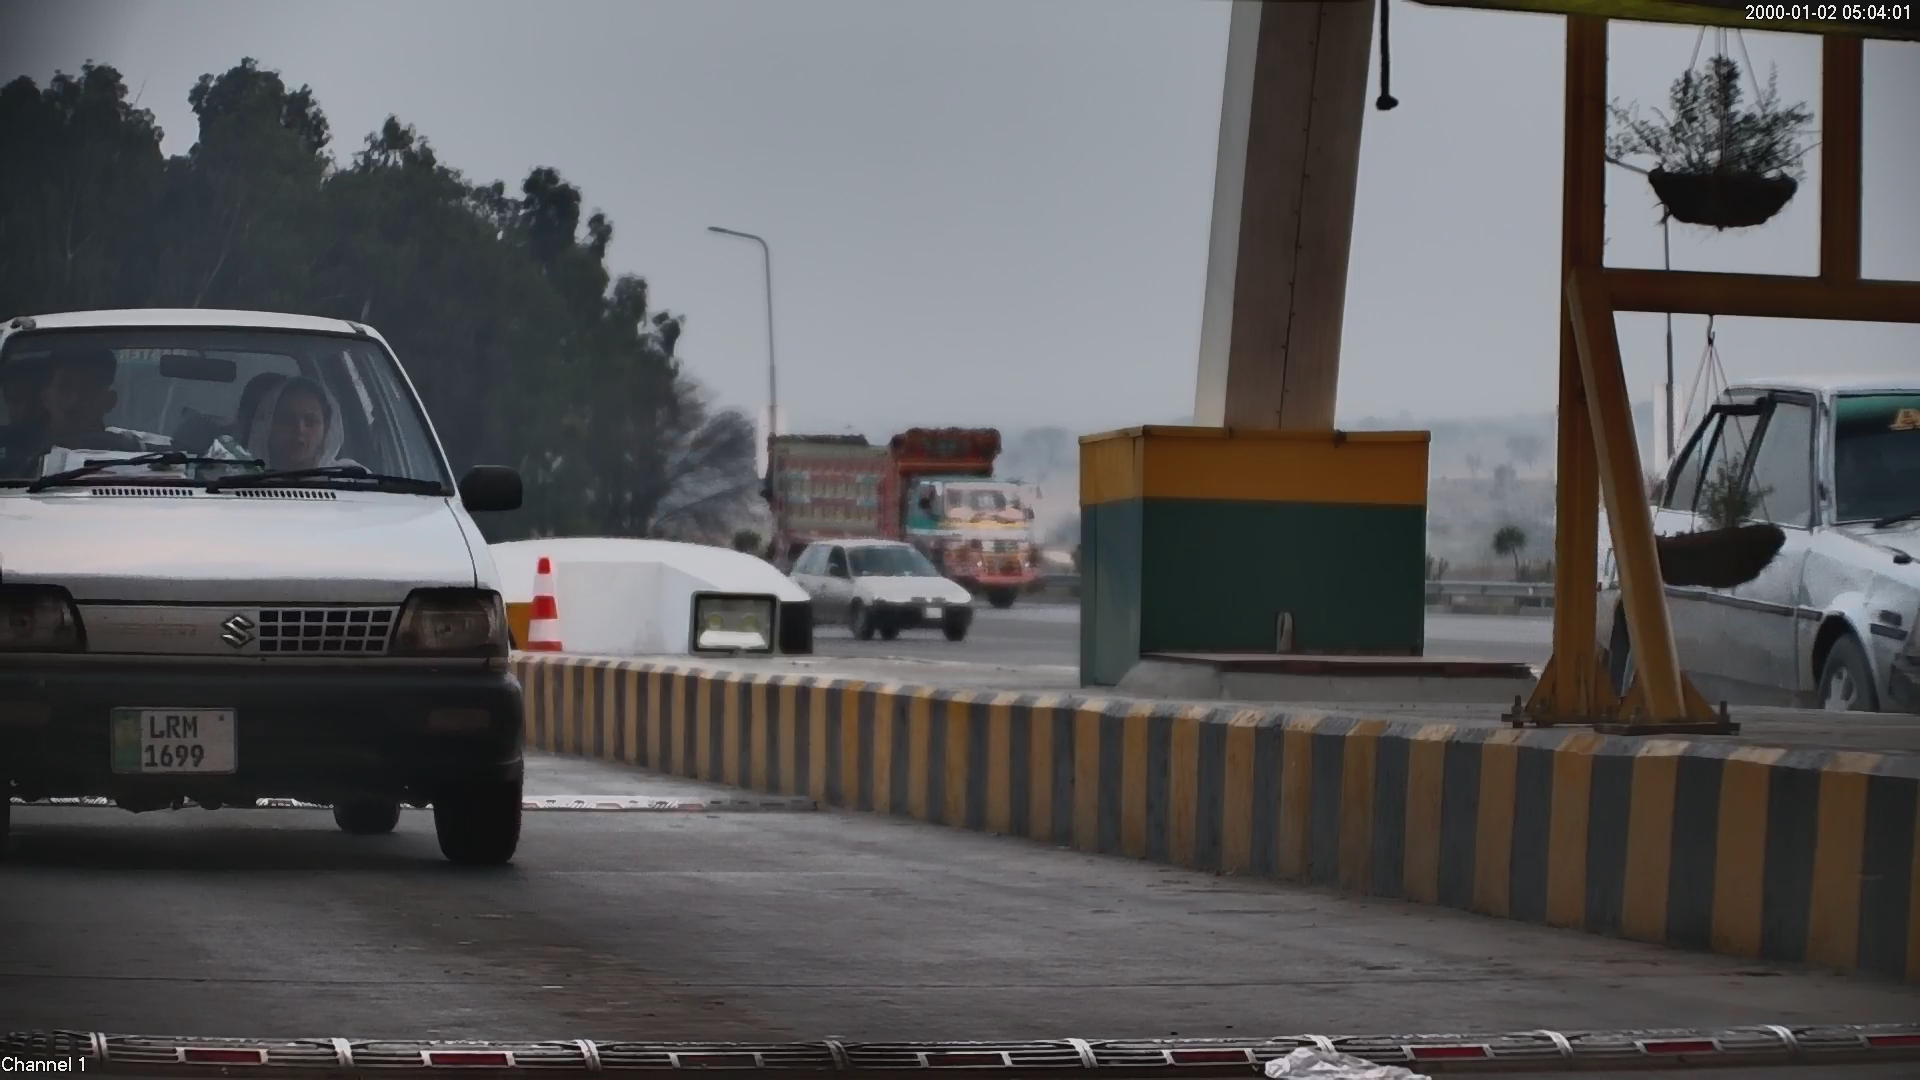Number_Plate: (101, 695, 247, 786)
